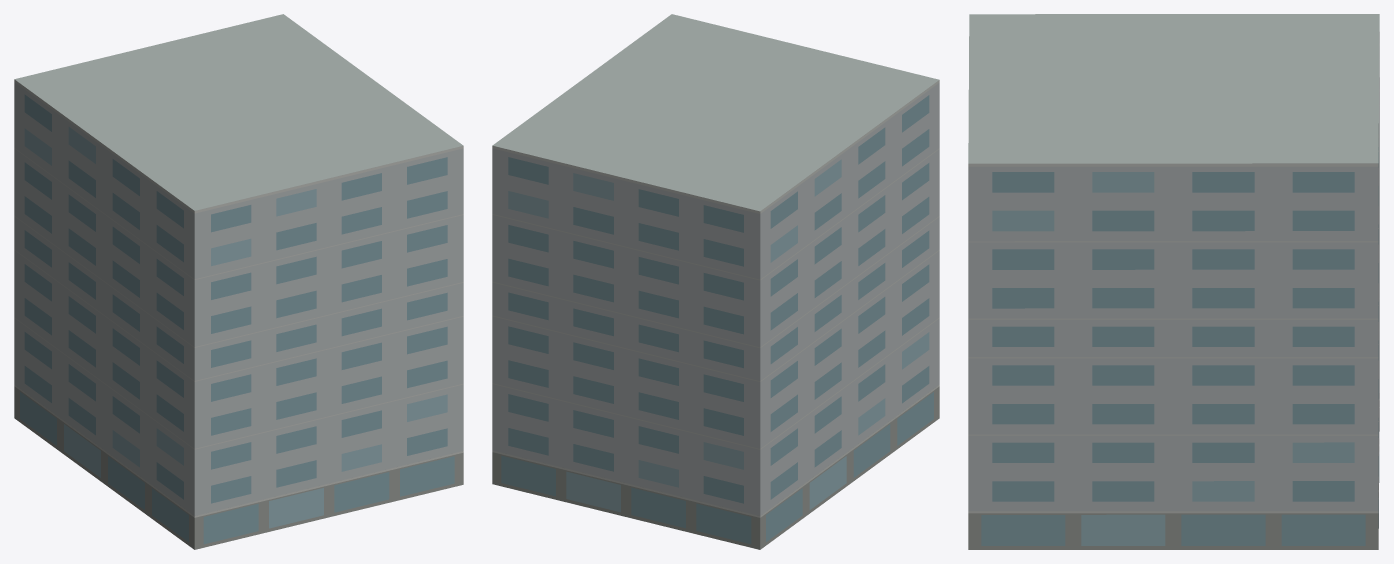
File: residential-3c916ade-9189-49b1-9d8a-bd9dac9448ab.glb
3 views of the same model, side by side, from view 1: azimuth 30°, elevation 25°; view 2: azimuth 150°, elevation 25°; view 3: azimuth 270°, elevation 25° (orthographic). The views are drawn at different scales.
Visible parts, largest first — view 1: residential-3c916ade-9189-49b1-9d8a-bd9dac9448ab.tmp; view 2: residential-3c916ade-9189-49b1-9d8a-bd9dac9448ab.tmp; view 3: residential-3c916ade-9189-49b1-9d8a-bd9dac9448ab.tmp.
Boxes of the visible parts, box(x1,y1,x2,y2) form: residential-3c916ade-9189-49b1-9d8a-bd9dac9448ab.tmp: box(14, 14, 463, 549); residential-3c916ade-9189-49b1-9d8a-bd9dac9448ab.tmp: box(492, 14, 939, 549); residential-3c916ade-9189-49b1-9d8a-bd9dac9448ab.tmp: box(968, 14, 1379, 549).
Size of the model in its own units: 25.34 by 30.5 by 29.45.
